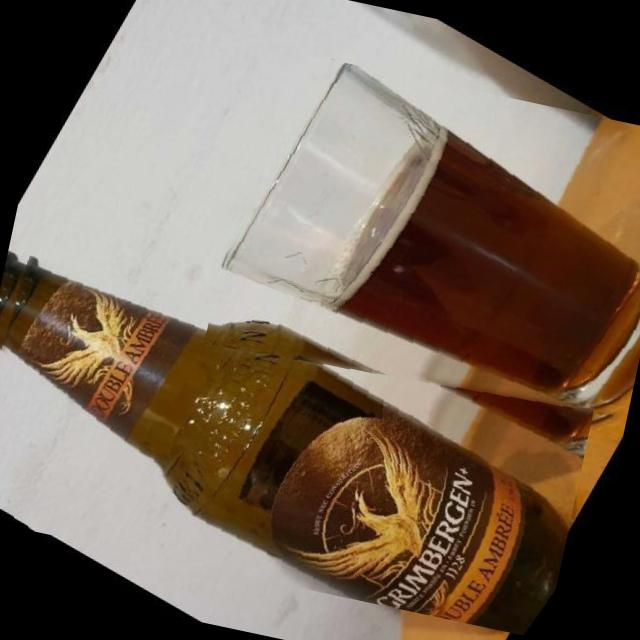Glass: (0, 249, 600, 638), (202, 44, 640, 431)
